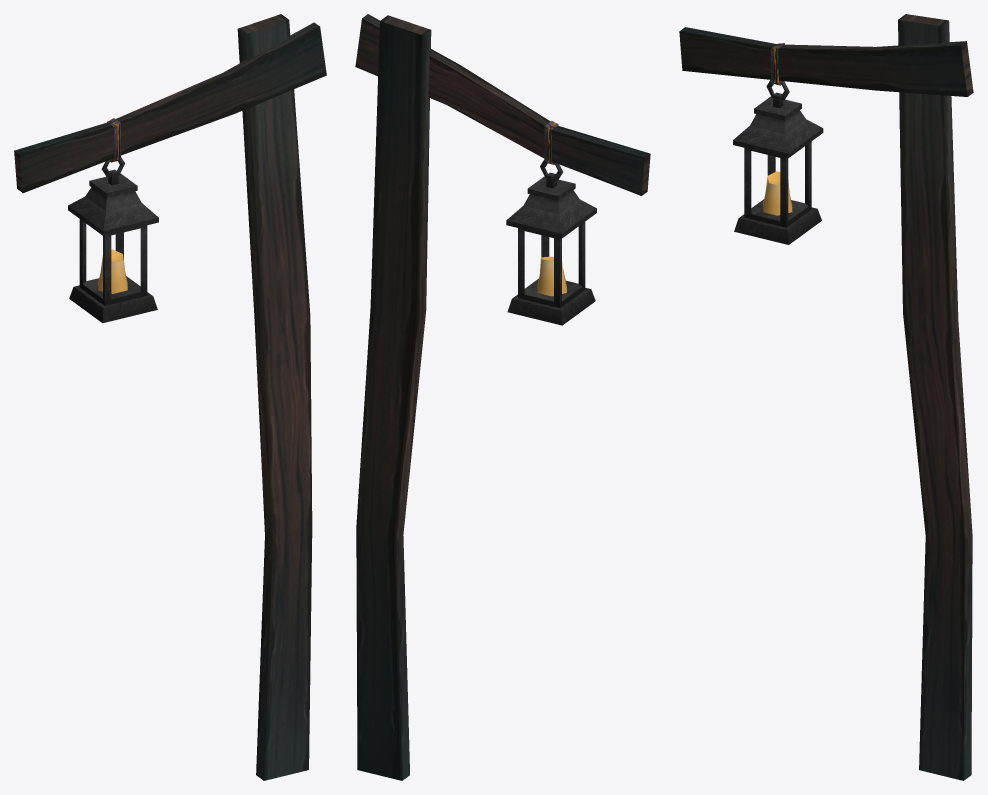
Rendered from Lamp2.fbx.
The picture shows the model from 3 angles, left to right: view 1: azimuth 30°, elevation 25°; view 2: azimuth 150°, elevation 25°; view 3: azimuth 330°, elevation 25°; orthographic projection.
Visible parts, largest first — view 1: Lamp_03; view 2: Lamp_03; view 3: Lamp_03.
Part boxes in pixels (bbox=[...]): Lamp_03: bbox=[14, 14, 326, 780]; Lamp_03: bbox=[355, 14, 650, 780]; Lamp_03: bbox=[679, 14, 973, 780].
Bounding box in the file's own units: 171 × 414 × 34.92.
